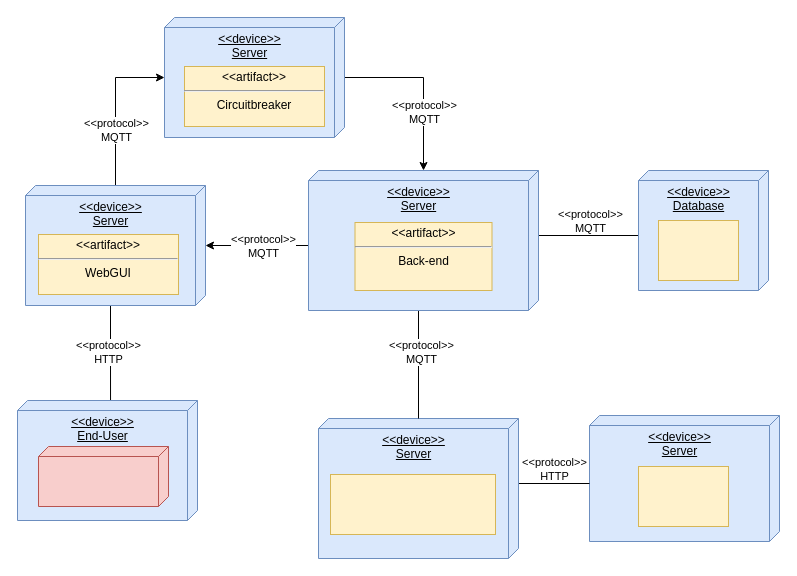
This 797x576 diagram has some shape labels left out. Each missing label, with the centre of its shape:
<<artifact>> DBMS: the point at 698,250
<<artifact>> Dental-data: the point at 683,496
<<artifact>> external-api-communicator: the point at 413,504
<<web browser>>: the point at 103,476
